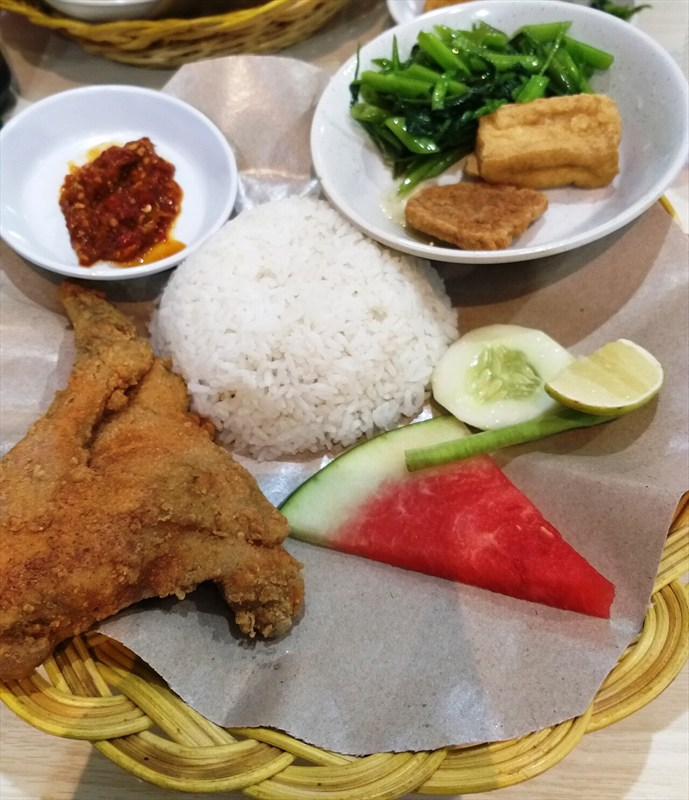Ayam Goreng: (45, 16, 597, 701)
